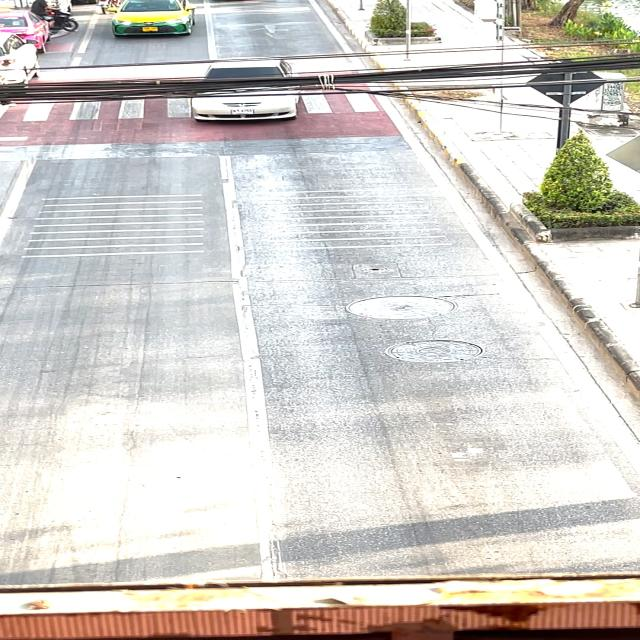car: (184, 53, 338, 132), (96, 0, 228, 50)
